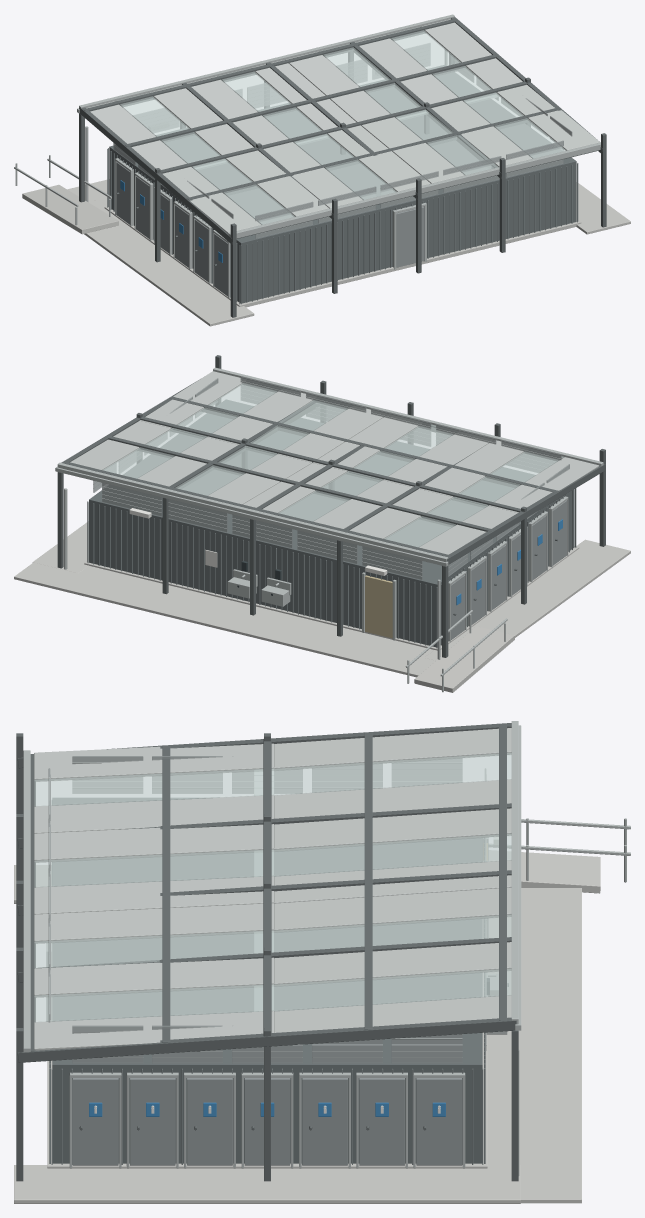
File: edinburgh-gardens-north-toilets.glb
The picture shows the model from 3 angles, top to bottom: view 1: azimuth 30°, elevation 25°; view 2: azimuth 150°, elevation 25°; view 3: azimuth 270°, elevation 25°; orthographic projection. The views are drawn at different scales.
Parts seen in each view (by area): view 1: North toilets optimized runtime mesh; view 2: North toilets optimized runtime mesh; view 3: North toilets optimized runtime mesh.
Part boxes in pixels (bbox=[...]): North toilets optimized runtime mesh: bbox=[14, 14, 630, 326]; North toilets optimized runtime mesh: bbox=[14, 355, 630, 692]; North toilets optimized runtime mesh: bbox=[14, 721, 630, 1203].
Bounding box in the file's own units: 17.97 × 4.13 × 13.72.
